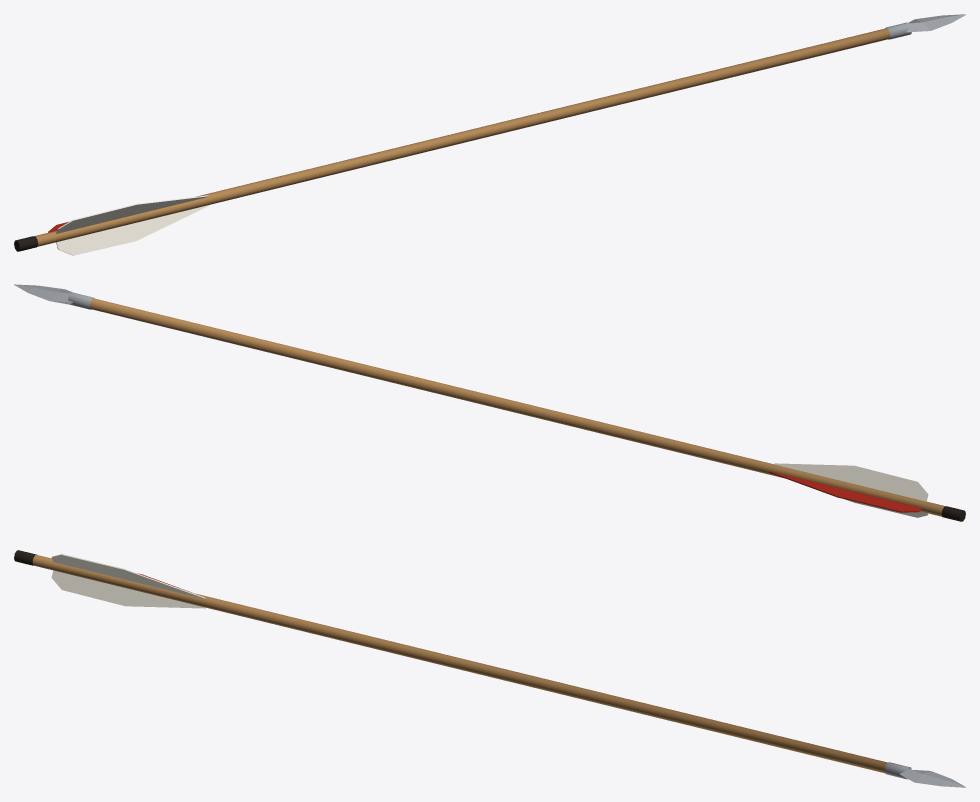
File: sip.glb
The picture shows the model from 3 angles, top to bottom: view 1: azimuth 30°, elevation 25°; view 2: azimuth 150°, elevation 25°; view 3: azimuth 330°, elevation 25°; orthographic projection.
Parts seen in each view (by area): view 1: sip; view 2: sip; view 3: sip.
Boxes of the visible parts, x1=… form: sip: x1=14, y1=14, x2=965, y2=255; sip: x1=14, y1=284, x2=965, y2=521; sip: x1=14, y1=550, x2=965, y2=787.
Size of the model in its own units: 0.75 by 0.0281 by 0.027.
